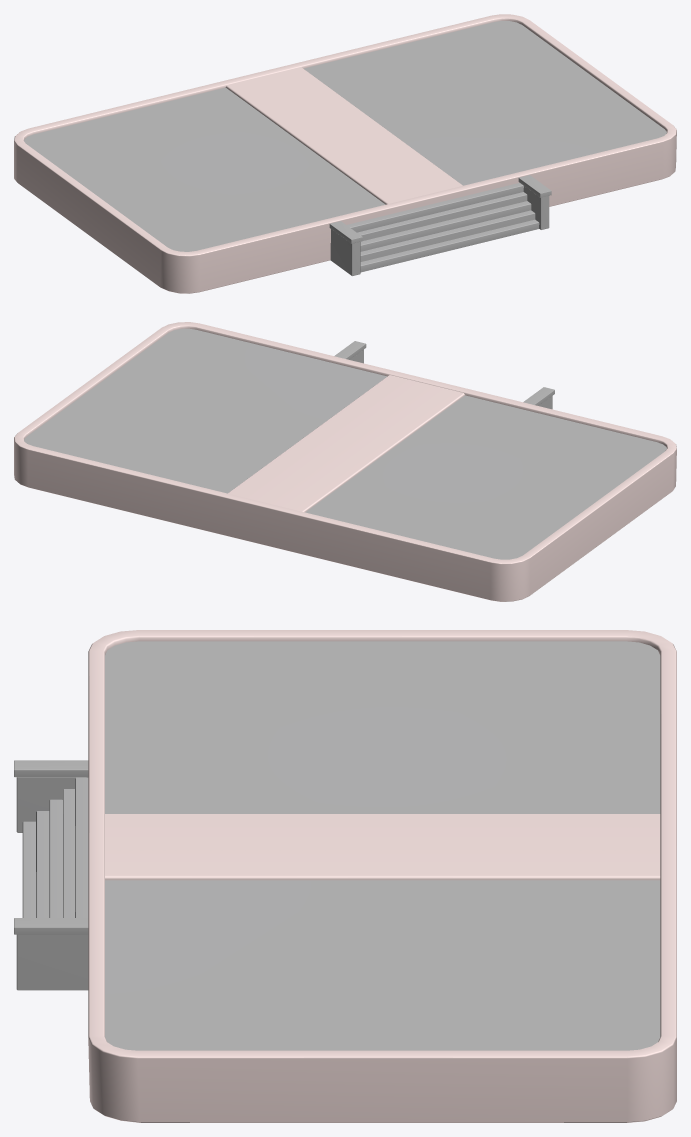
Rendered from Public_15_Base_1.glb.
3 renders of one model, top to bottom at view 1: azimuth 30°, elevation 25°; view 2: azimuth 150°, elevation 25°; view 3: azimuth 270°, elevation 25°, orthographic. The views are drawn at different scales.
Visible parts, largest first — view 1: Public_15_Base_1; view 2: Public_15_Base_1; view 3: Public_15_Base_1.
Boxes of the visible parts, x1=… form: Public_15_Base_1: x1=14, y1=14, x2=676, y2=293; Public_15_Base_1: x1=14, y1=322, x2=676, y2=601; Public_15_Base_1: x1=14, y1=630, x2=676, y2=1122.
Size of the model in its own units: 18.35 by 1.33 by 12.02.
1 material, 1 textured.
